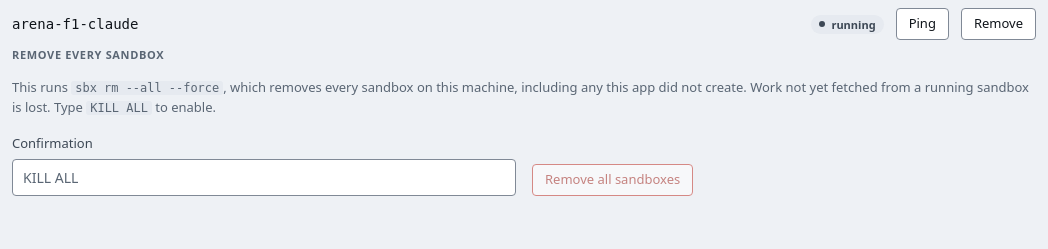
Test: SandboxControls › reports a live agent from a ping
The width and height of the screenshot is (1048, 249).
Click the button "Ping".
click(922, 24)  # box [896, 8, 949, 40]
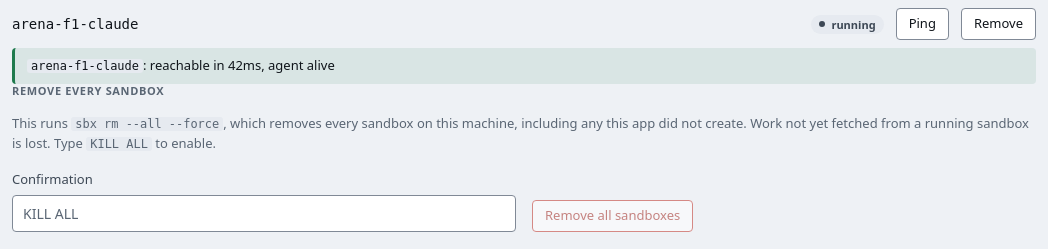
Check: the message shows "agent alive", box [150, 56, 335, 74]
